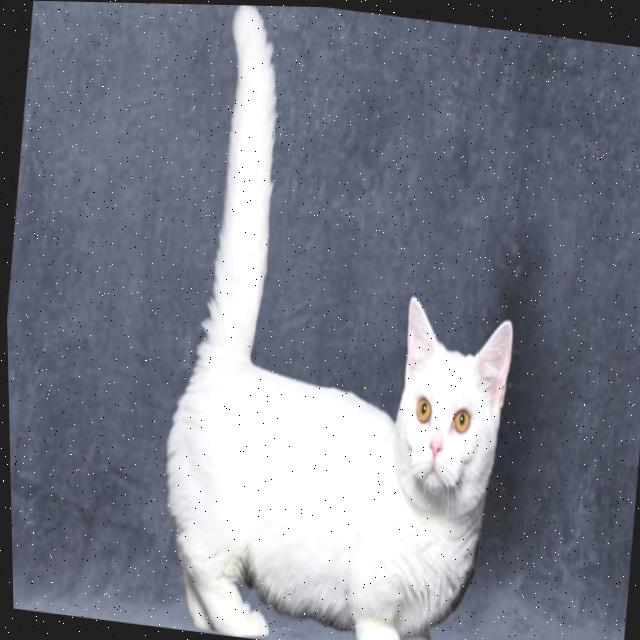Munchkin: (133, 2, 554, 640)
